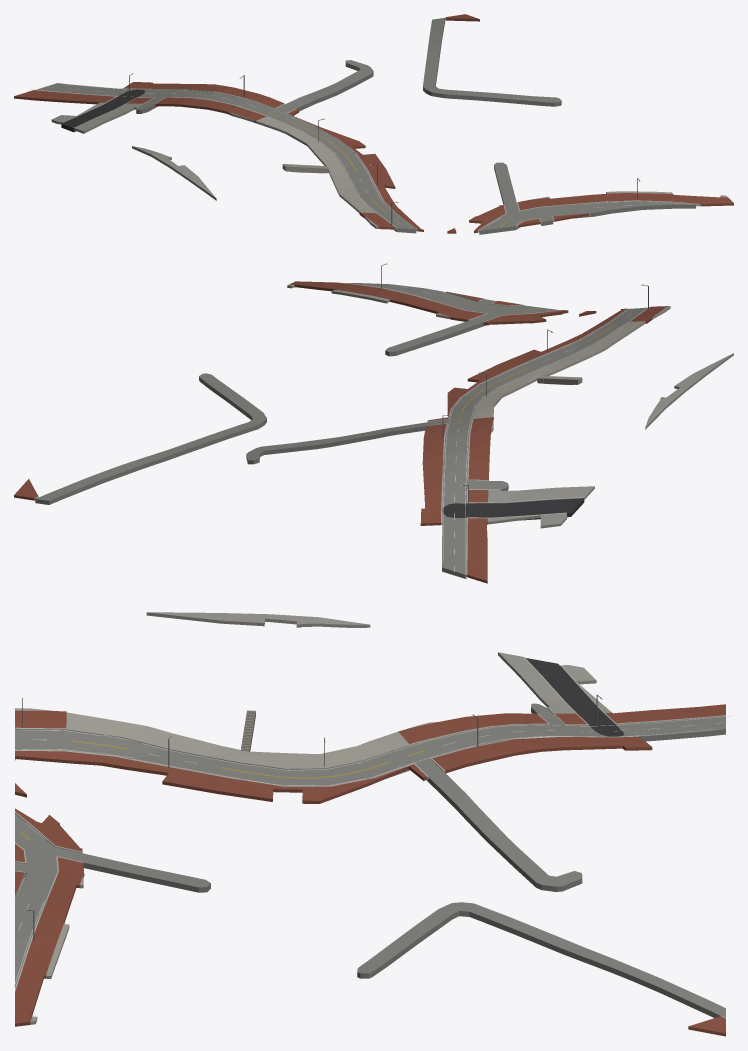
The picture shows the model from 3 angles, top to bottom: view 1: azimuth 30°, elevation 25°; view 2: azimuth 150°, elevation 25°; view 3: azimuth 270°, elevation 25°; orthographic projection. The views are drawn at different scales.
Size of the model in its own units: 147 by 27.64 by 148.
